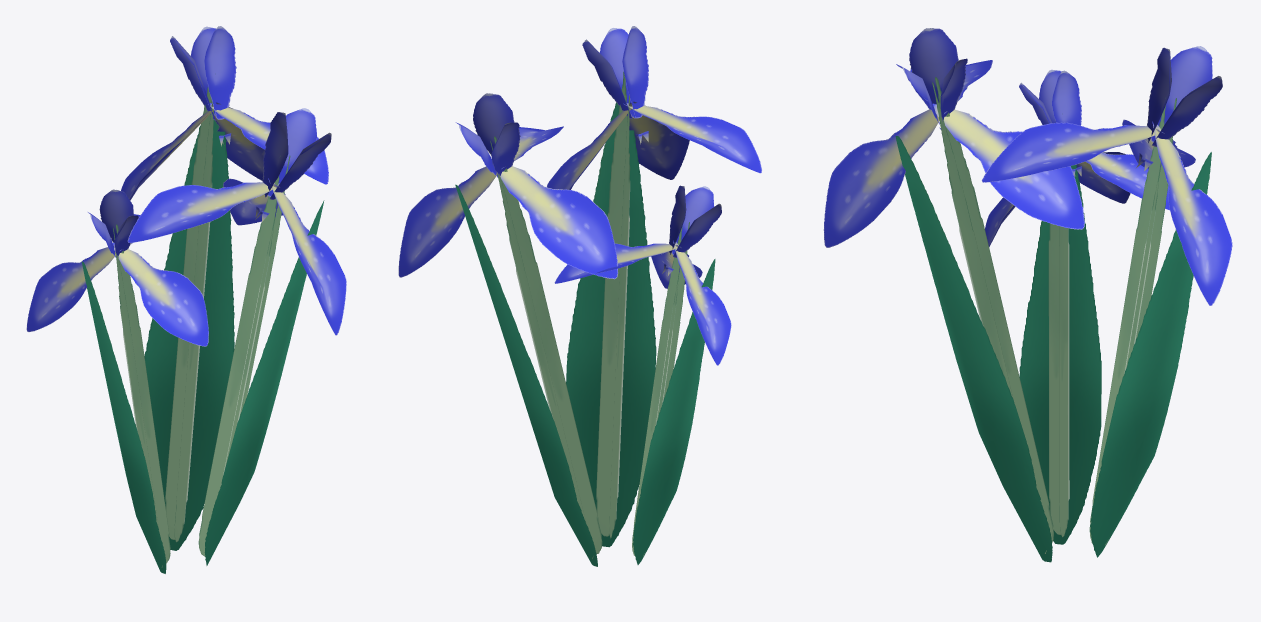
The model's file is Iris_b_Cluster.fbx.
3 renders of one model, left to right at view 1: azimuth 30°, elevation 25°; view 2: azimuth 150°, elevation 25°; view 3: azimuth 270°, elevation 25°, orthographic. The views are drawn at different scales.
Visible parts, largest first — view 1: polySurface518; view 2: polySurface518; view 3: polySurface518.
Part boxes in pixels (x1,y1,x2,y2): polySurface518: [26, 26, 346, 573]; polySurface518: [398, 26, 761, 566]; polySurface518: [823, 28, 1232, 562].
Size of the model in its own units: 0.3268 by 0.5547 by 0.3577.
